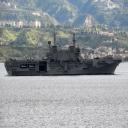Portanaves: (6, 27, 124, 78)
